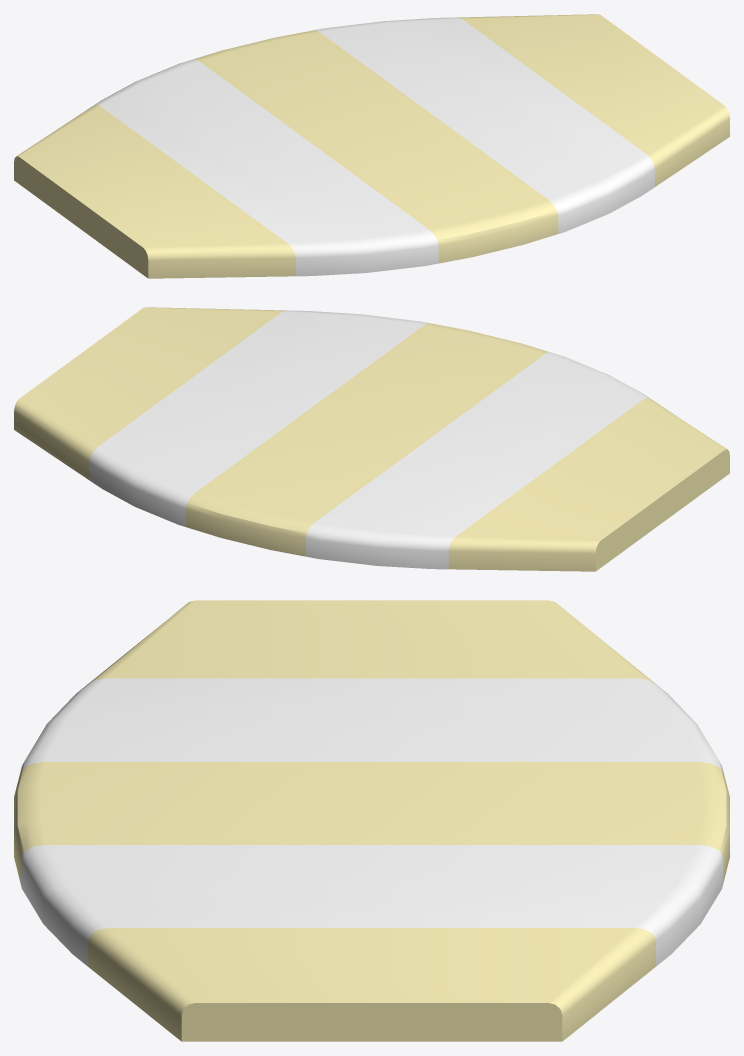
File: RoadWide_yellow.fbx
3 renders of one model, top to bottom at view 1: azimuth 30°, elevation 25°; view 2: azimuth 150°, elevation 25°; view 3: azimuth 270°, elevation 25°, orthographic. The views are drawn at different scales.
Visible parts, largest first — view 1: RoadWide_yellow; view 2: RoadWide_yellow; view 3: RoadWide_yellow.
Boxes of the visible parts, x1,y1,x2,y2 form: RoadWide_yellow: (14,14,729,278); RoadWide_yellow: (14,307,729,571); RoadWide_yellow: (14,600,729,1041).
Bounding box in the file's own units: 750 × 33.61 × 564.
Materials: 1 (1 with a texture image).
